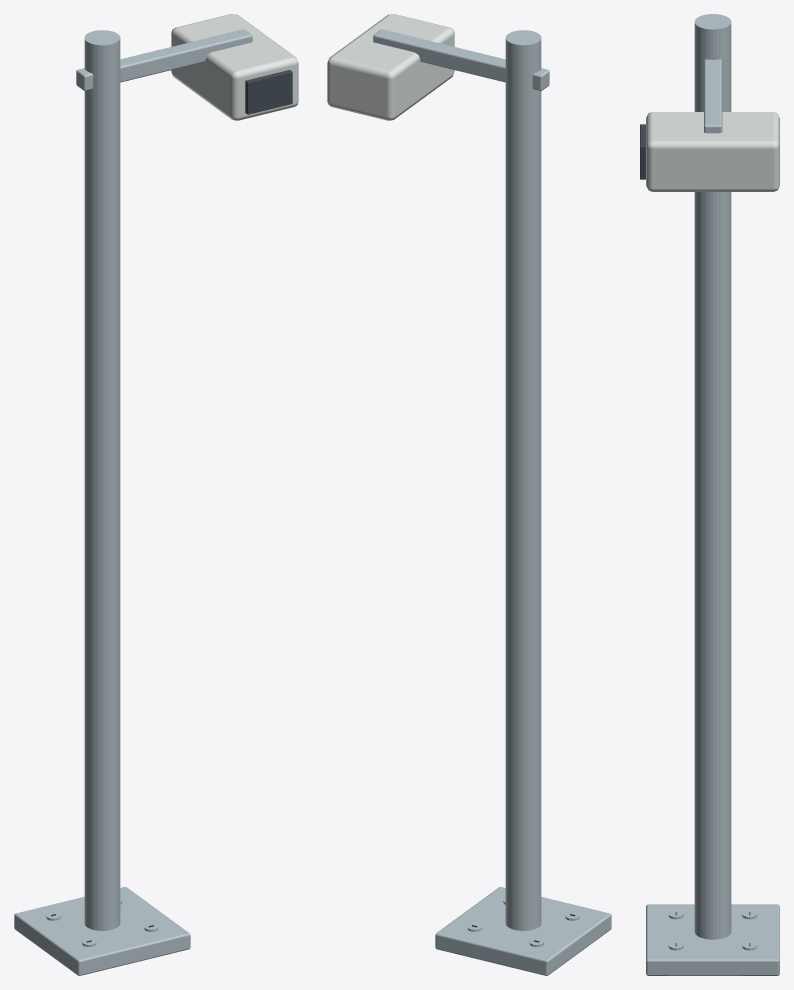
Rendered from data-centre-infiltration-kit-data-centre-infiltration--43ebd529__29259.glb.
3 views of the same model, side by side, from view 1: azimuth 30°, elevation 25°; view 2: azimuth 150°, elevation 25°; view 3: azimuth 270°, elevation 25° (orthographic). The views are drawn at different scales.
Visible parts, largest first — view 1: data-centre-infiltration-kit-camera-mast; view 2: data-centre-infiltration-kit-camera-mast; view 3: data-centre-infiltration-kit-camera-mast.
Boxes of the visible parts, x1,y1,x2,y2 form: data-centre-infiltration-kit-camera-mast: (14,14,298,975); data-centre-infiltration-kit-camera-mast: (327,14,611,975); data-centre-infiltration-kit-camera-mast: (640,14,779,975).
Bounding box in the file's own units: 0.7899 × 3.06 × 0.418.
